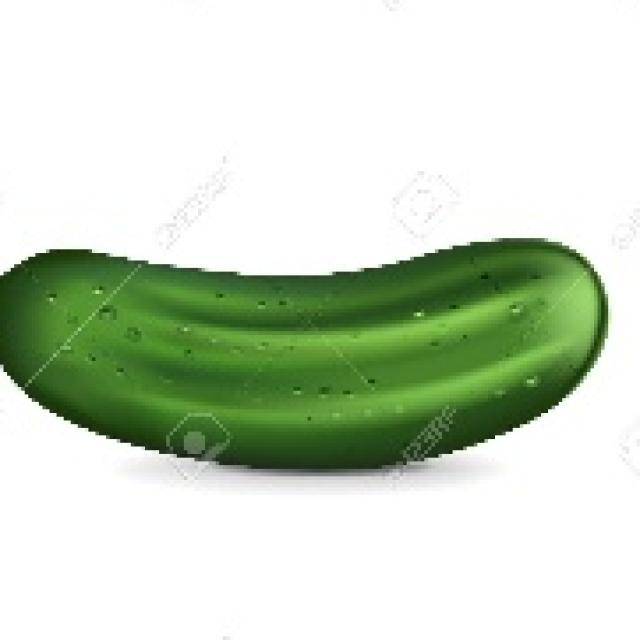cucumber: (0, 234, 601, 458)
